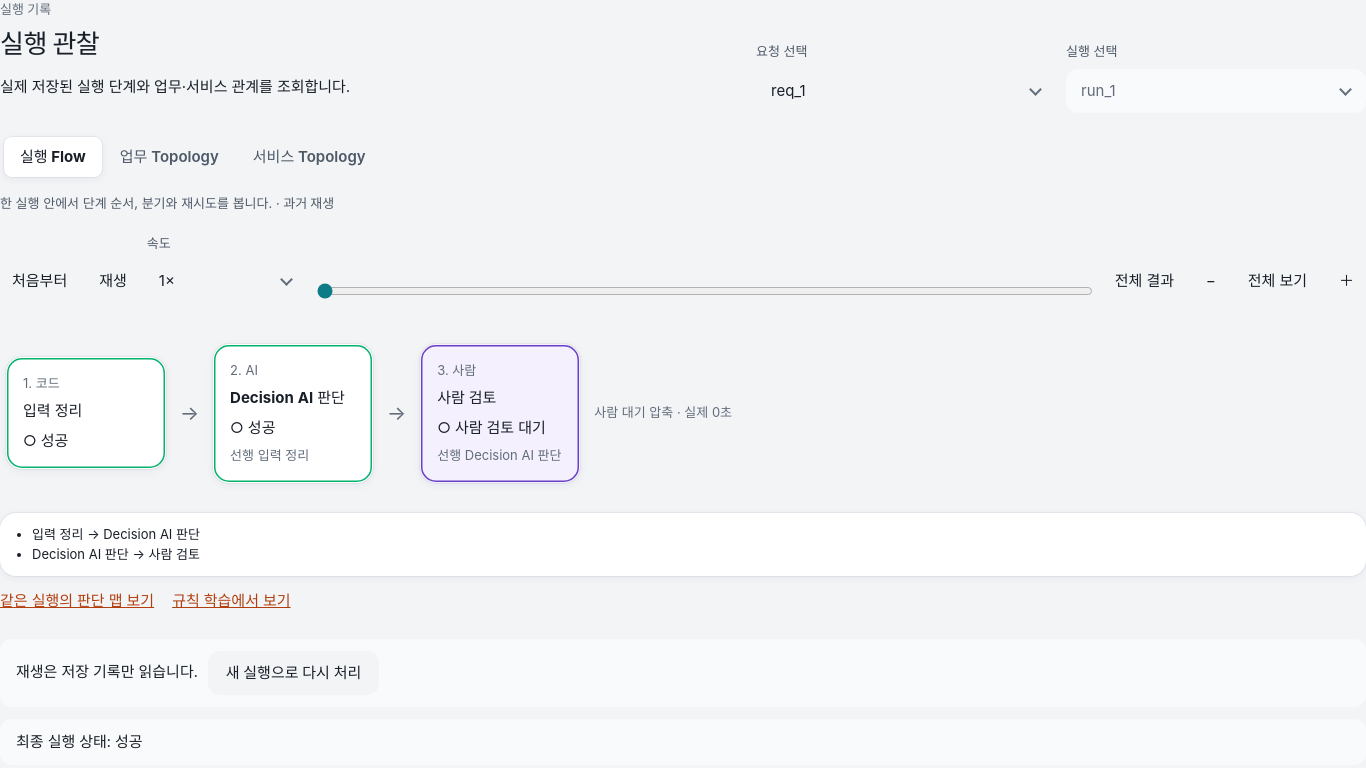
Scenario: Trace detail diagnostics (SPEC-F02) › shows failed step error, duration, and execution versions
Click the button "2. AI Decision AI 판단 ○ 성공 선행 입력 정리".
click(293, 413)  # box [213, 344, 373, 482]
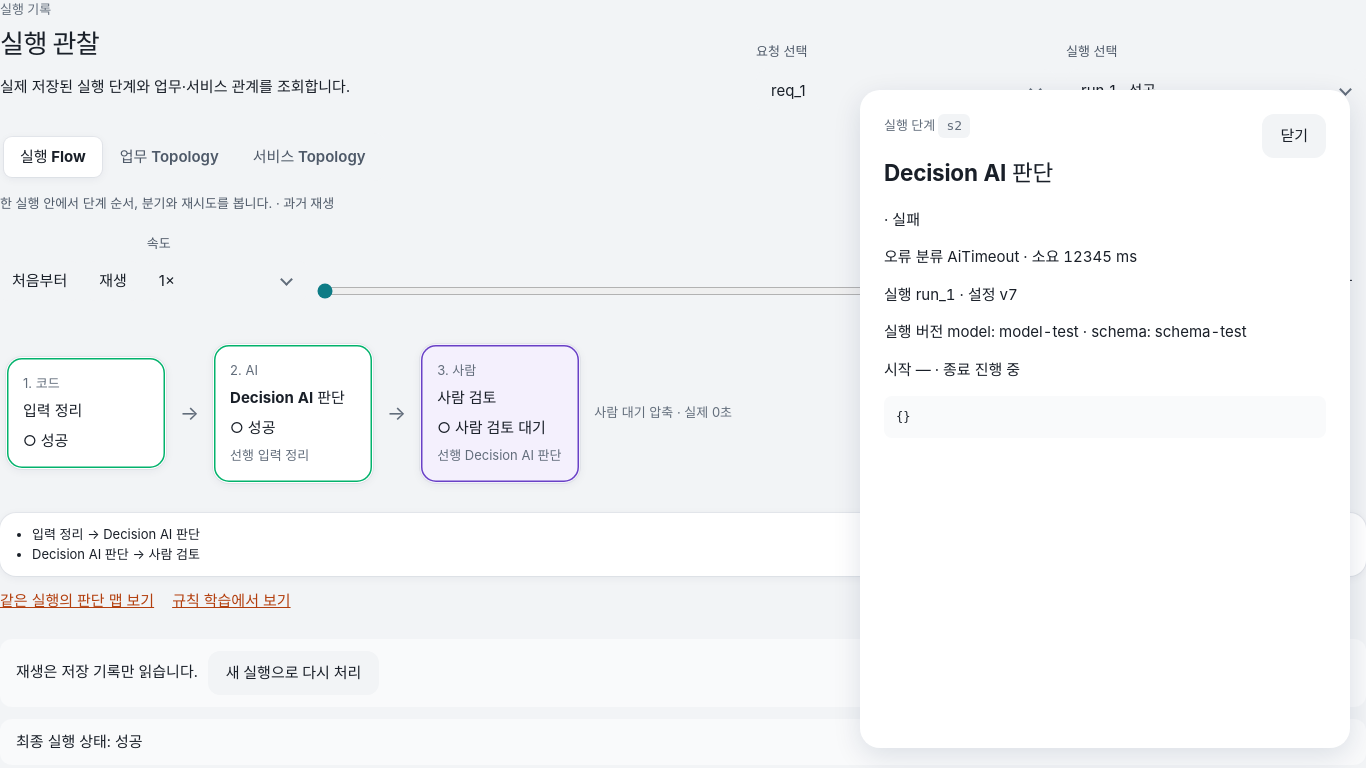
Expected: the dialog named "Trace 상세" shows "AiTimeout", [947, 247, 1019, 266]
Expected: the dialog named "Trace 상세" shows "12345 ms", [1063, 247, 1137, 266]
Expected: the dialog named "Trace 상세" shows "model-test", [947, 322, 1247, 341]
